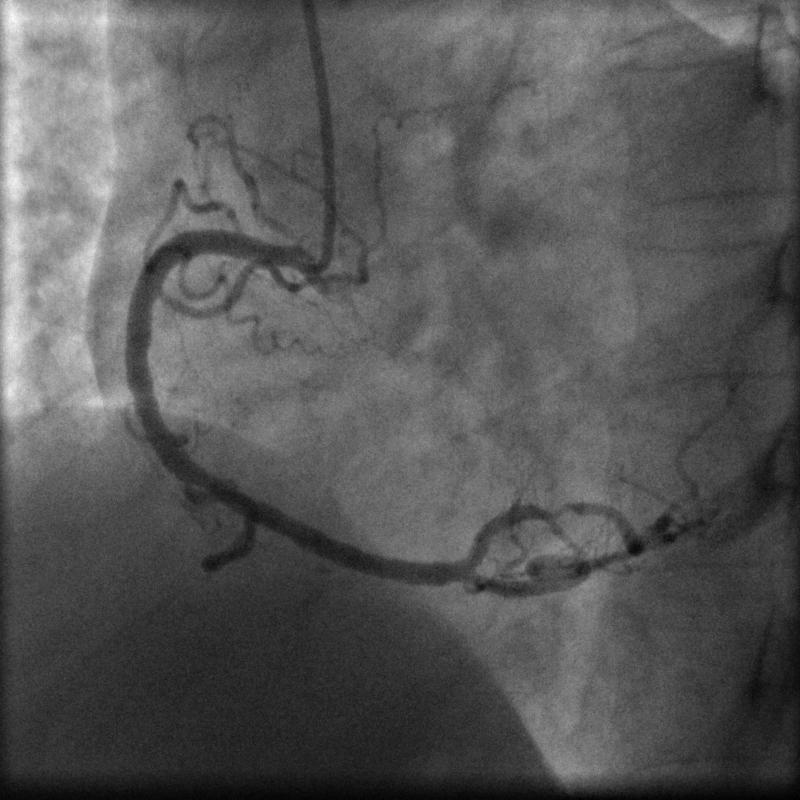Stenosis: (528, 494, 584, 523)
